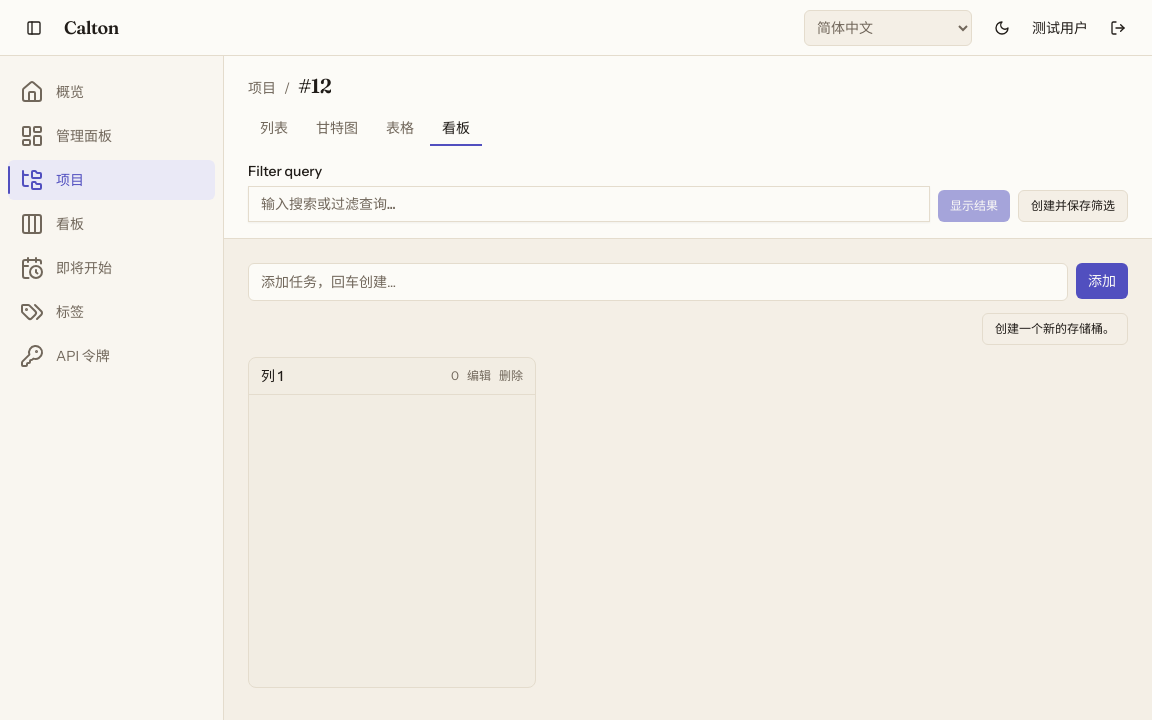
Test: 看板：列（桶）CRUD › 空标题被前端拦下，不发请求
Expected: the element with test id "bucket-column" is shown, [248,357,536,688]
Click the button with test id "new-bucket": click(1055, 329) [982,313,1128,345]
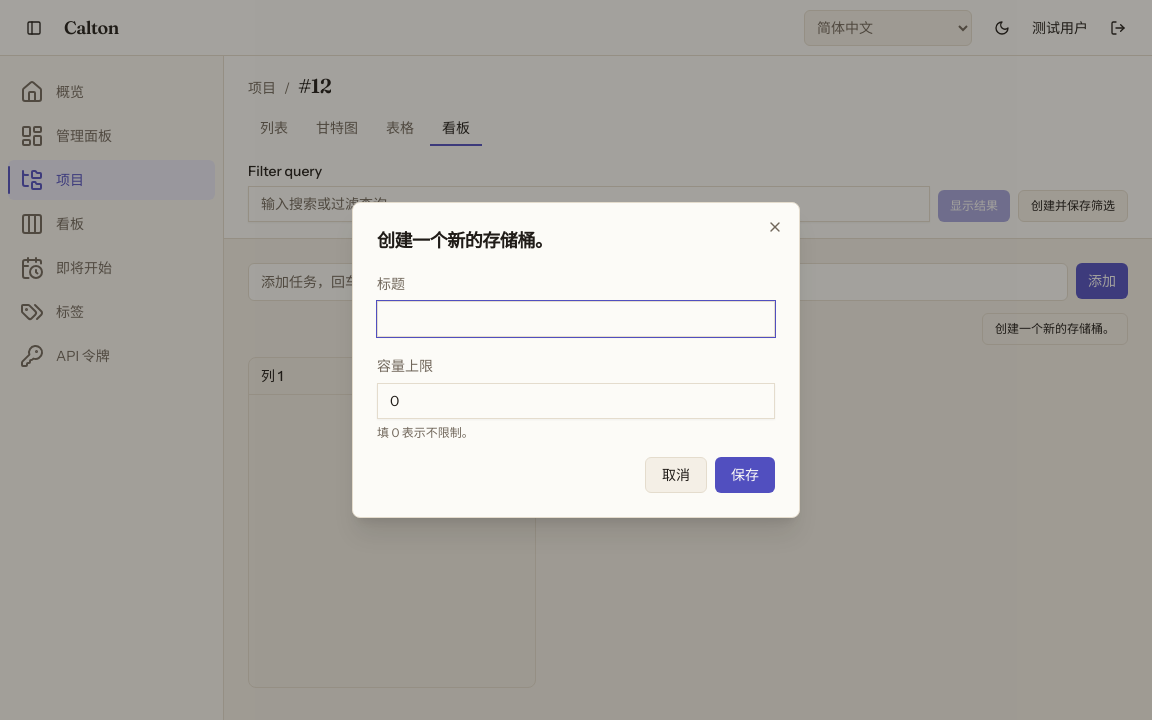
Click the button with test id "bucket-form-submit": click(745, 475) [715,457,775,493]
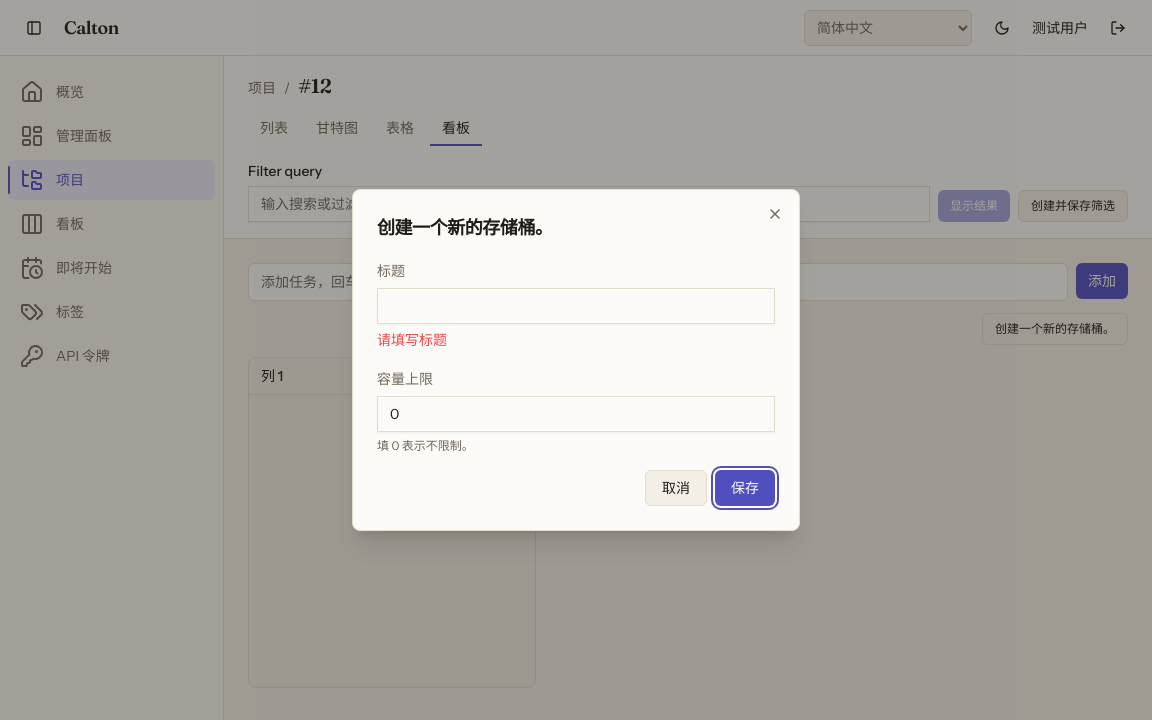
Expected: the message reads "请填写标题", [377,331,447,349]
